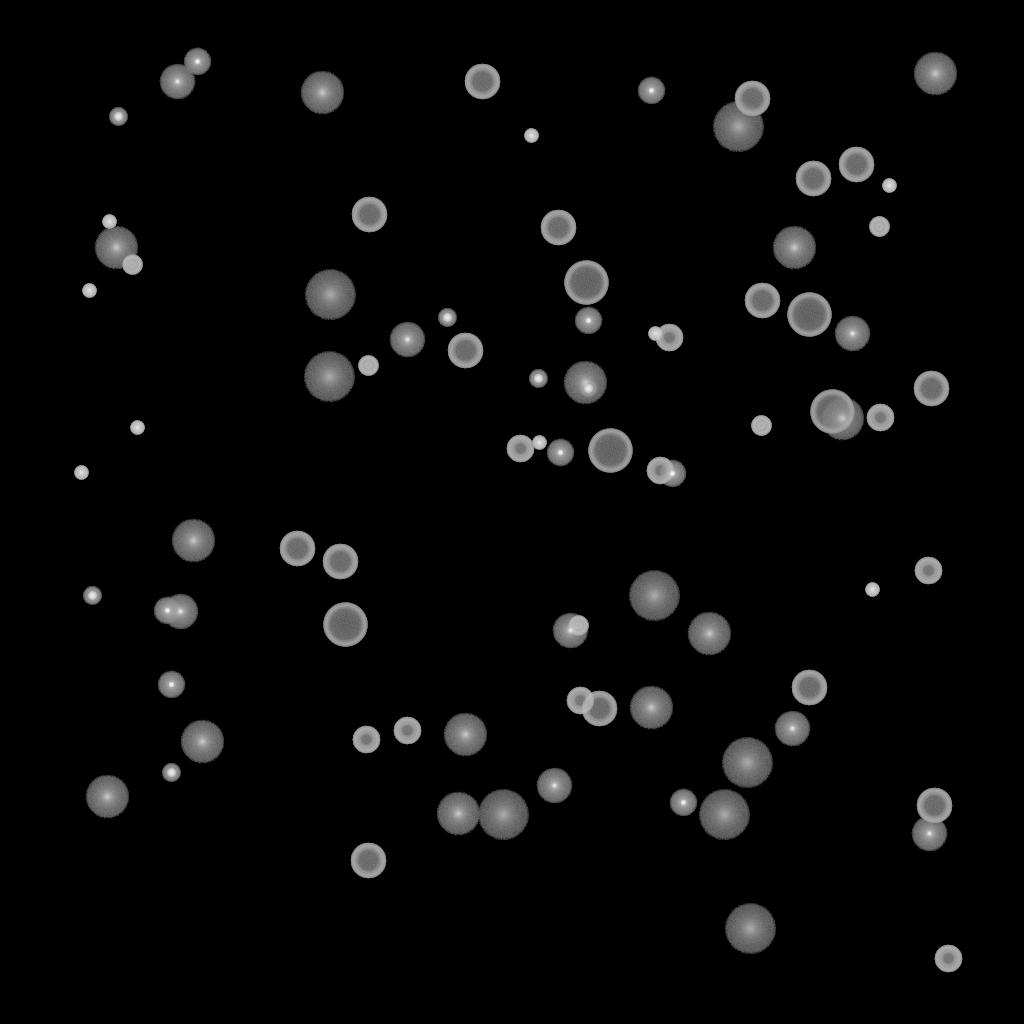depth:-10: (183, 48, 211, 76), (669, 789, 697, 817), (546, 439, 574, 467), (153, 597, 181, 625), (637, 77, 665, 105), (574, 307, 602, 335), (157, 671, 185, 699), (658, 460, 686, 488)
depth:-20: (109, 108, 127, 126), (438, 309, 456, 327), (579, 380, 597, 398), (83, 587, 101, 605), (162, 764, 180, 782), (529, 370, 547, 388)
depth:-30: (102, 215, 116, 229), (882, 179, 896, 193), (648, 327, 662, 341), (524, 129, 538, 143), (865, 583, 879, 597), (74, 466, 88, 480), (82, 284, 96, 298), (532, 436, 546, 450), (130, 421, 144, 435)
depth:-40: (751, 416, 771, 436), (122, 255, 142, 275), (869, 217, 889, 237), (358, 356, 378, 376), (568, 616, 588, 636)
depth:-50: (866, 404, 894, 432), (393, 717, 421, 745), (934, 945, 962, 973), (352, 726, 380, 754), (655, 324, 683, 352), (506, 435, 534, 463), (566, 687, 594, 715), (646, 457, 674, 485), (914, 557, 942, 585)
depth:-60: (838, 147, 874, 183), (279, 531, 315, 567), (795, 161, 831, 197), (916, 788, 952, 824), (464, 64, 500, 100), (540, 210, 576, 246), (913, 371, 949, 407), (744, 283, 780, 319), (734, 81, 770, 117), (791, 670, 827, 706), (581, 691, 617, 727), (351, 197, 387, 233), (447, 333, 483, 369), (350, 843, 386, 879), (322, 544, 358, 580)
depth:-70: (323, 603, 367, 647), (787, 293, 831, 337), (588, 429, 632, 473), (564, 261, 608, 305), (810, 390, 854, 434)
depth:0: (162, 594, 198, 630), (774, 711, 810, 747), (552, 613, 588, 649), (536, 768, 572, 804), (389, 322, 425, 358), (834, 316, 870, 352), (159, 64, 195, 100), (911, 816, 947, 852)
depth:10: (772, 226, 816, 270), (85, 775, 129, 819), (436, 792, 480, 836), (94, 226, 138, 270), (180, 720, 224, 764), (171, 519, 215, 563), (913, 52, 957, 96), (687, 612, 731, 656), (443, 713, 487, 757), (820, 397, 864, 441), (629, 686, 673, 730), (563, 361, 607, 405), (300, 71, 344, 115)
depth:20: (712, 102, 764, 152), (304, 270, 356, 320), (698, 790, 750, 840), (303, 352, 355, 402), (477, 790, 529, 840), (721, 738, 773, 788), (724, 904, 776, 954), (628, 571, 680, 621)
